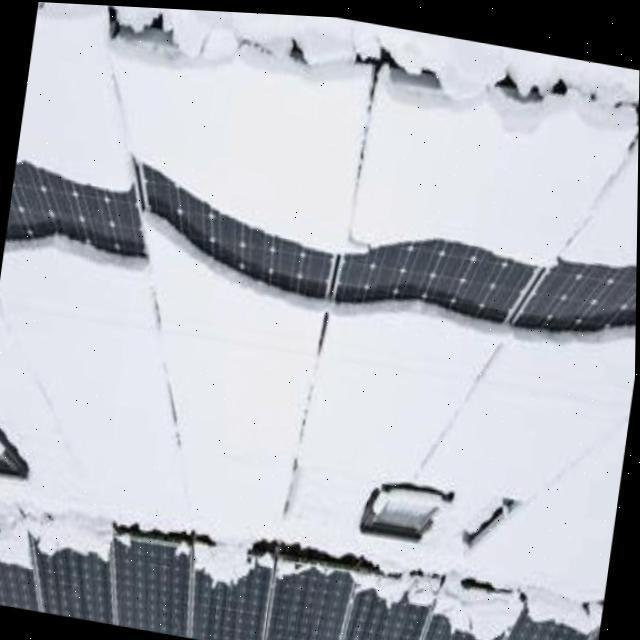Anomaly Solar Panel: (0, 2, 640, 640)
Snow: (0, 210, 637, 595), (16, 2, 640, 260)
